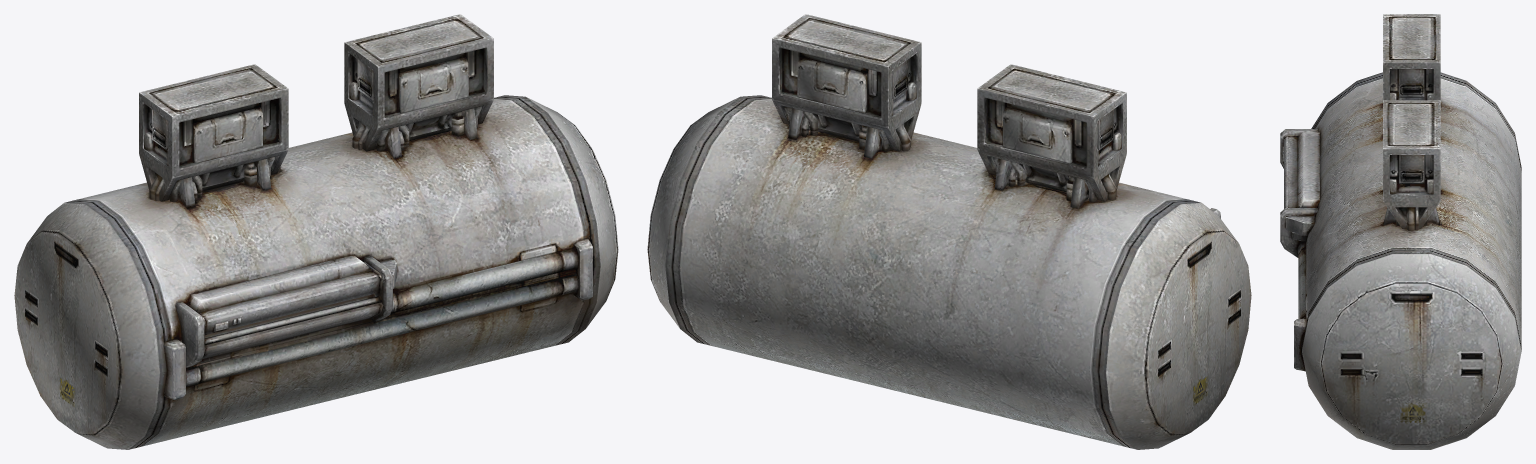
The model's file is tech_ceiling_theta_01.DAE.
The picture shows the model from 3 angles, left to right: view 1: azimuth 30°, elevation 25°; view 2: azimuth 150°, elevation 25°; view 3: azimuth 270°, elevation 25°; orthographic projection. The views are drawn at different scales.
Visible parts, largest first — view 1: tech_ceiling_theta_01; view 2: tech_ceiling_theta_01; view 3: tech_ceiling_theta_01.
Boxes of the visible parts, bbox=[...] form: tech_ceiling_theta_01: bbox=[14, 14, 618, 449]; tech_ceiling_theta_01: bbox=[647, 14, 1251, 449]; tech_ceiling_theta_01: bbox=[1280, 14, 1521, 449].
Bounding box in the file's own units: 1.5 × 0.9211 × 0.7292.
